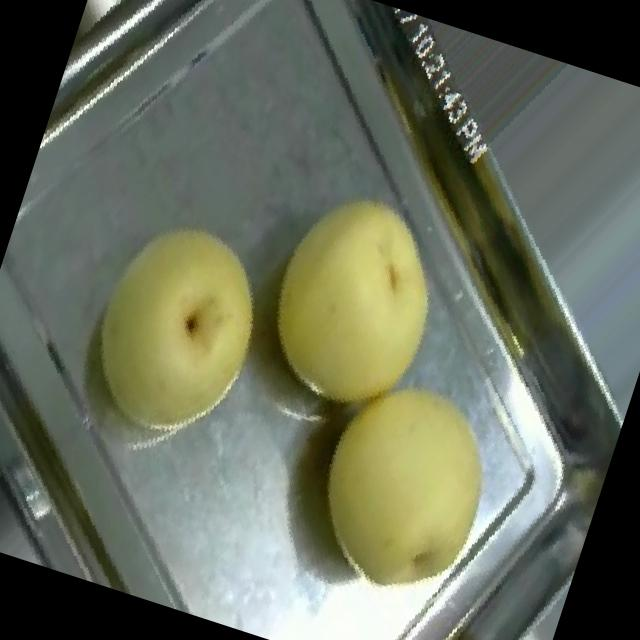Fruit: (258, 336, 556, 640), (32, 176, 310, 482), (224, 152, 486, 450)
